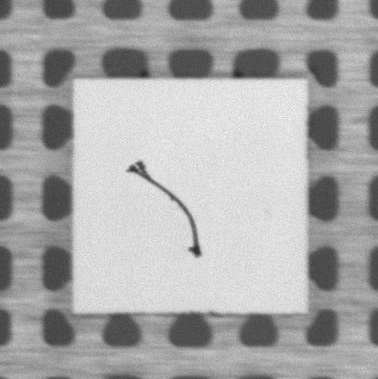DIE_INK: (125, 159, 203, 257)
